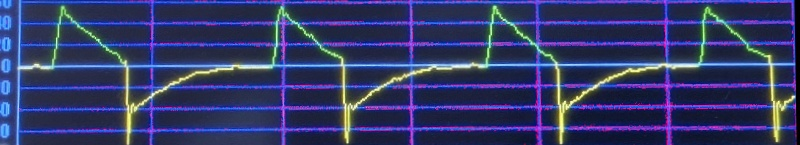normal_flow: (25, 0, 787, 145)
